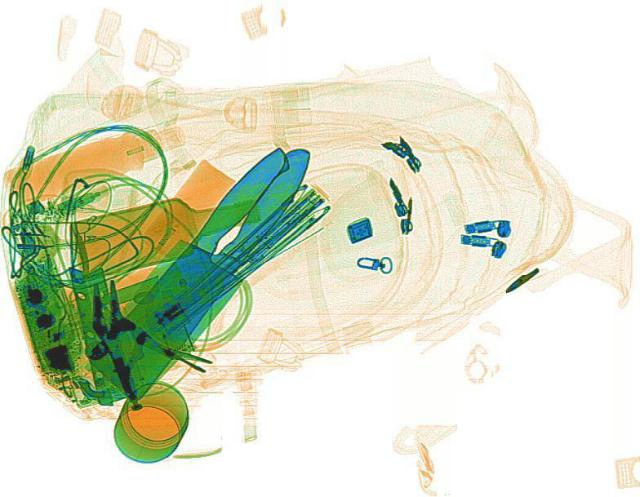Knife: (71, 128, 333, 401), (68, 142, 336, 401)
